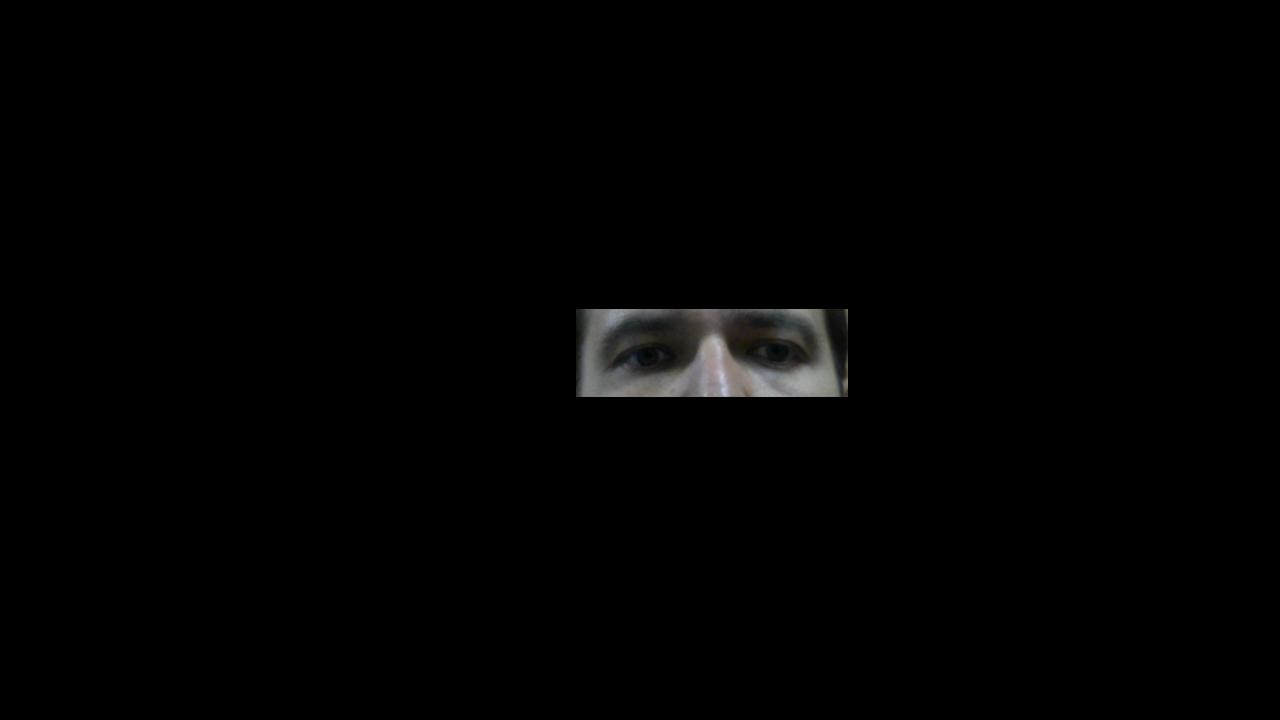eye: (764, 343, 791, 364), (633, 346, 660, 365)
